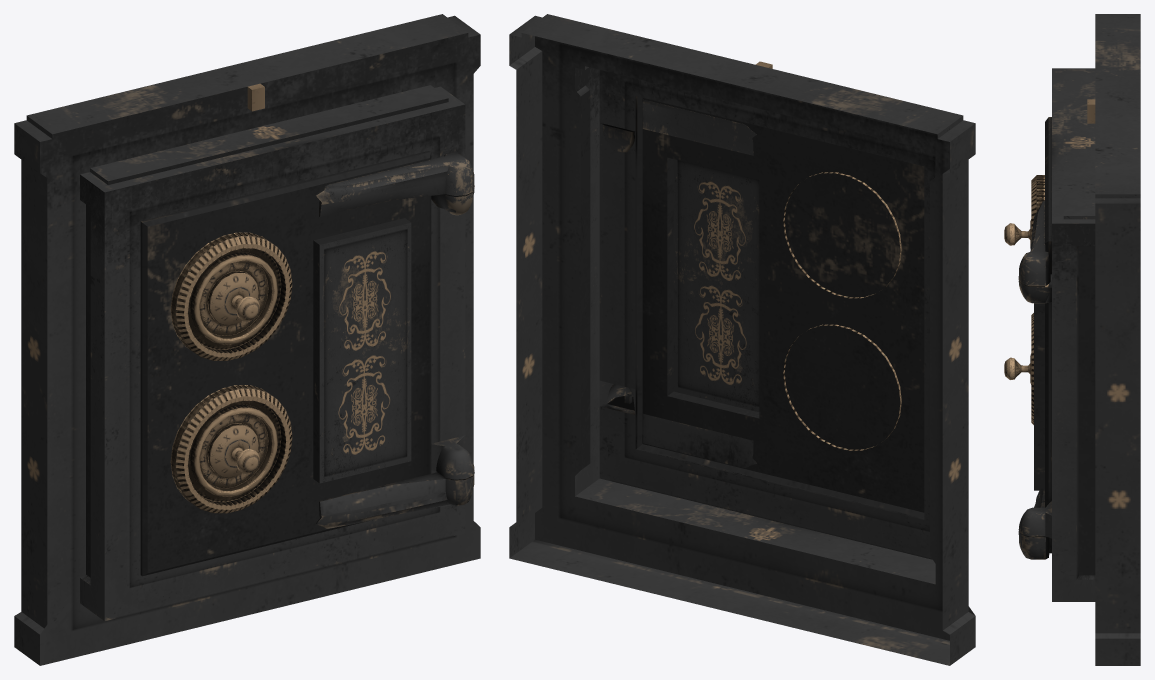
Rendered from Wall Safe 2.fbx.
3 renders of one model, left to right at view 1: azimuth 30°, elevation 25°; view 2: azimuth 150°, elevation 25°; view 3: azimuth 270°, elevation 25°, orthographic. The views are drawn at different scales.
Parts seen in each view (by area): view 1: Cube_001; view 2: Cube_001; view 3: Cube_001.
Boxes of the visible parts, <box> form: Cube_001: <box>14,14,480,665</box>; Cube_001: <box>509,14,975,665</box>; Cube_001: <box>1004,14,1140,665</box>.
Bounding box in the file's own units: 97.86 × 112 × 29.75.
